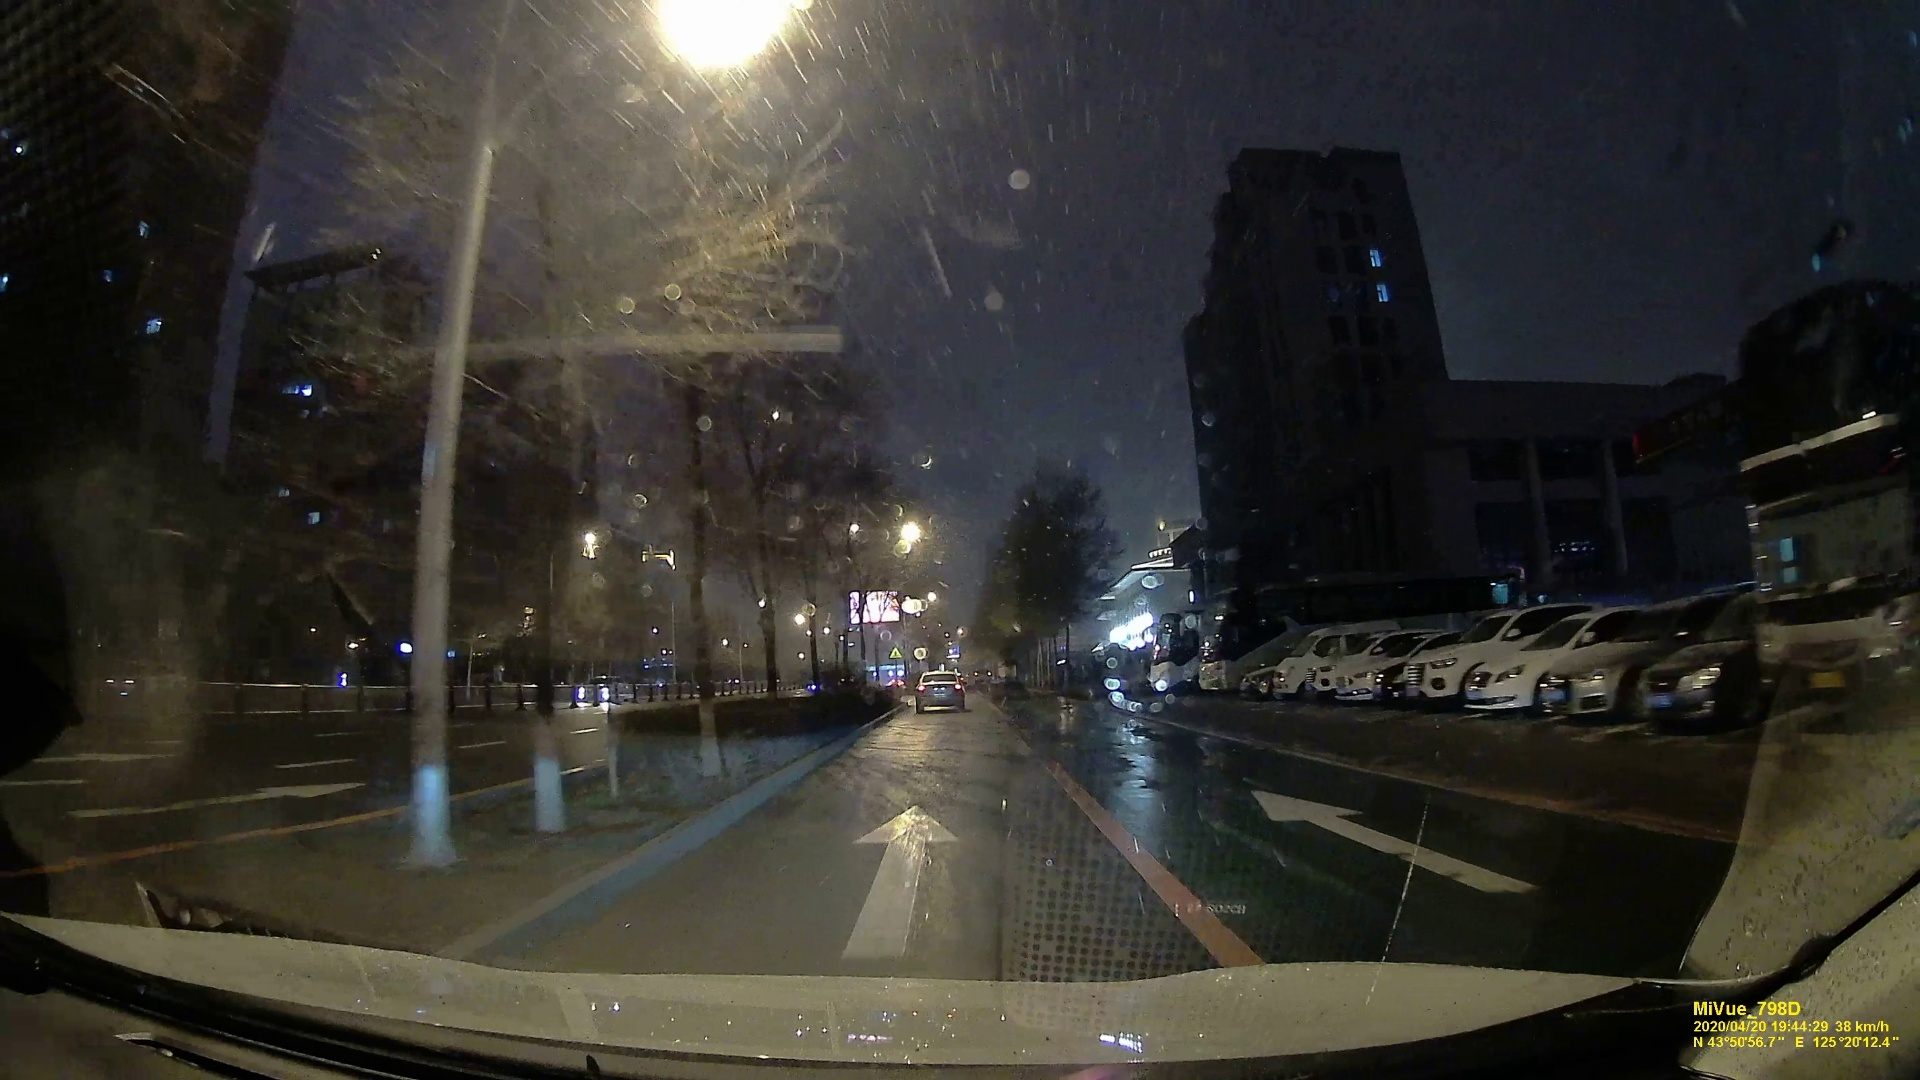bus: (1725, 425, 1920, 720), (1196, 587, 1276, 695), (1149, 608, 1196, 694)
minibus: (1279, 628, 1342, 698)
vehicle: (915, 670, 964, 709), (576, 674, 626, 703)
